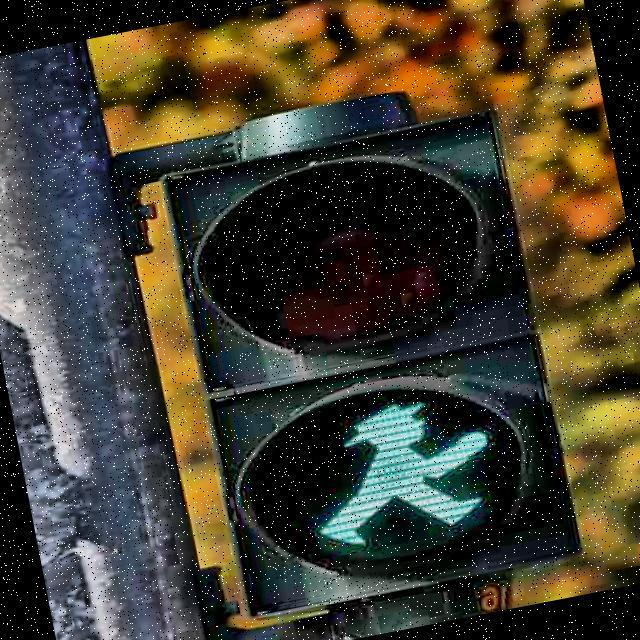green_light: (287, 380, 514, 562)
